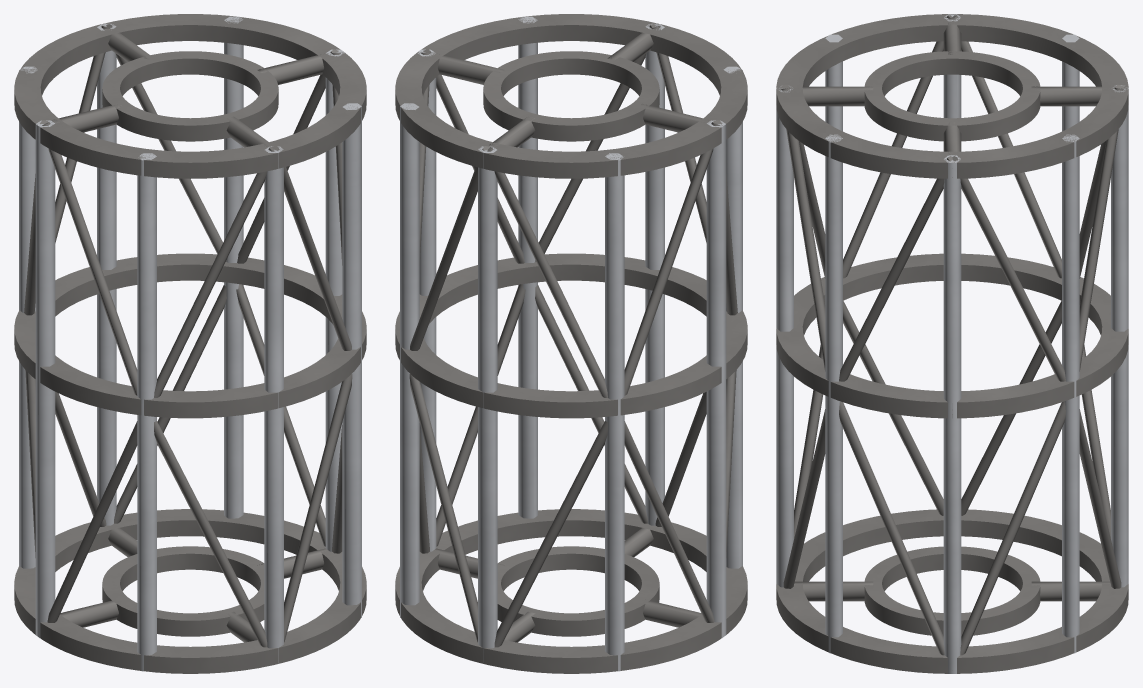
Rendered from struct01_lattice_truss_s_2.glb.
3 renders of one model, left to right at view 1: azimuth 30°, elevation 25°; view 2: azimuth 150°, elevation 25°; view 3: azimuth 270°, elevation 25°, orthographic.
Parts seen in each view (by area): view 1: longerons, ring_frames, diagonals, end_plates; view 2: longerons, ring_frames, diagonals, end_plates; view 3: ring_frames, longerons, diagonals, end_plates.
Boxes of the visible parts, box(x1,y1,x2,y2) form: longerons: box(19, 16, 361, 671); ring_frames: box(14, 14, 366, 673); diagonals: box(24, 24, 352, 647); end_plates: box(52, 32, 326, 642); longerons: box(400, 16, 742, 671); ring_frames: box(395, 14, 747, 673); diagonals: box(409, 24, 737, 647); end_plates: box(434, 32, 709, 642); ring_frames: box(776, 14, 1128, 673); longerons: box(776, 14, 1128, 673); diagonals: box(781, 15, 1123, 655); end_plates: box(794, 21, 1110, 635).
Bounding box in the file's own units: 1.25 × 2.02 × 1.25.
2 materials, 2 textured.
